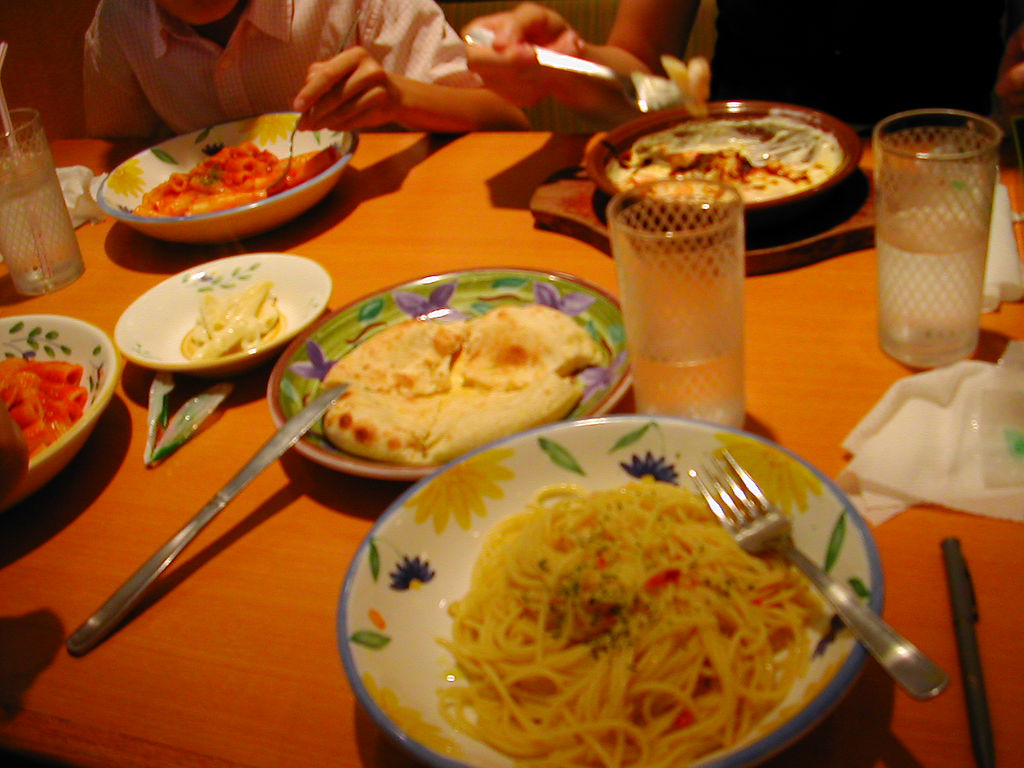glass of water: (611, 197, 763, 417), (865, 102, 988, 363)
plain spaghetti: (481, 502, 765, 727)
